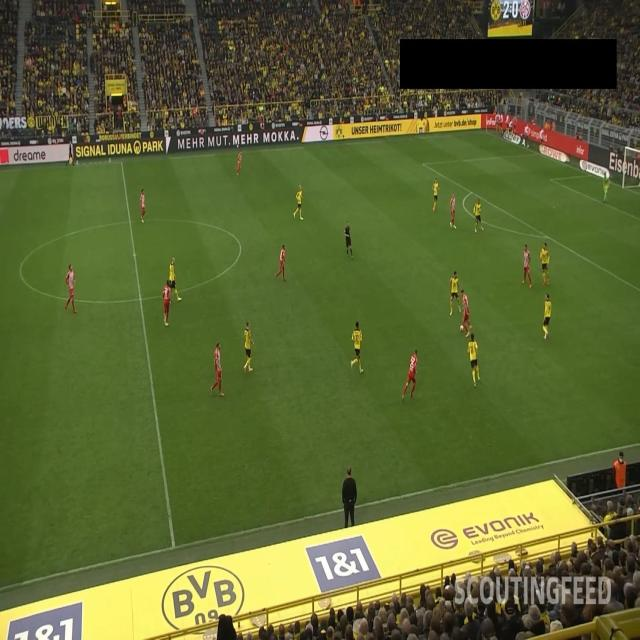ball: (460, 324, 464, 332)
